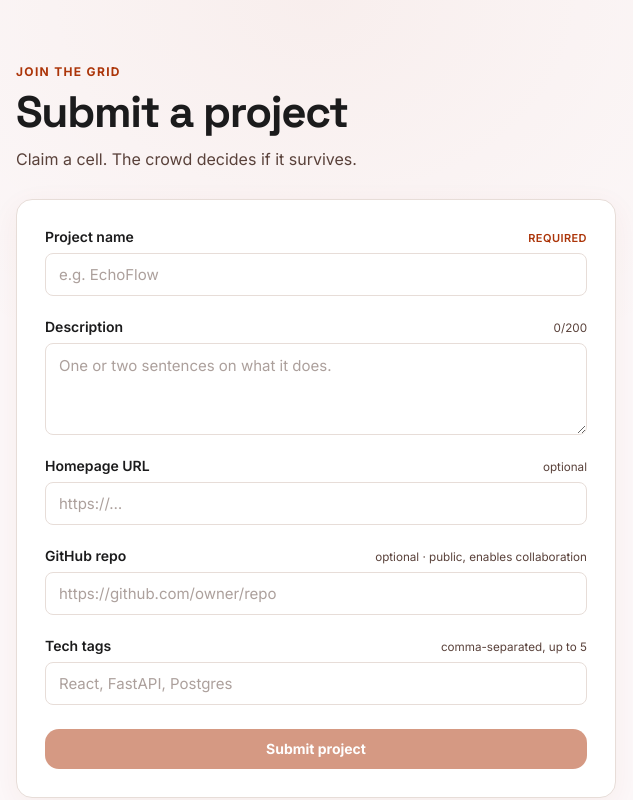
Test case: SubmitPage › rejects a non-http url with an inline error
This screenshot has width=633, height=800.
Type "ftp://x" into the field labelled "Homepage URL optional". click: {"x": 316, "y": 503}
box: 45,482 -> 587,525
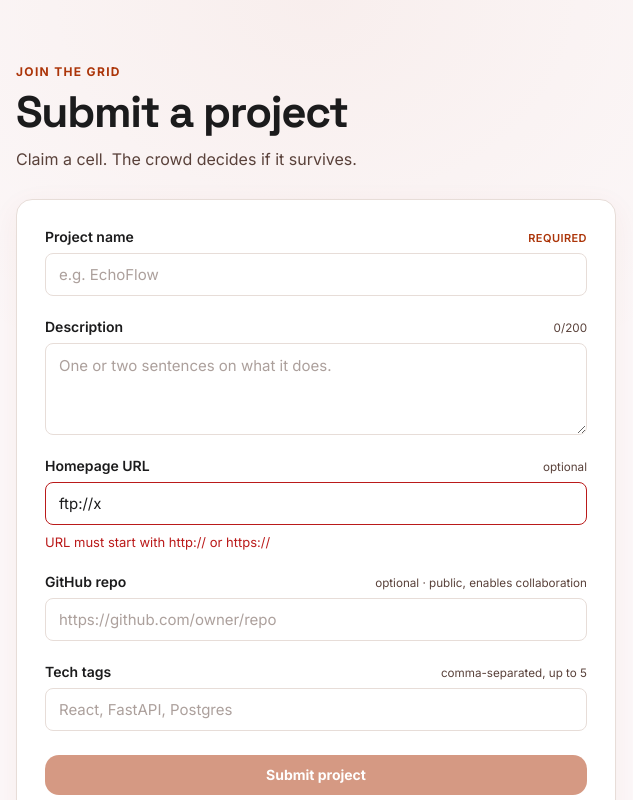
Expected: the text "URL must start with http:// or https://" is shown, 45,534 -> 270,550
